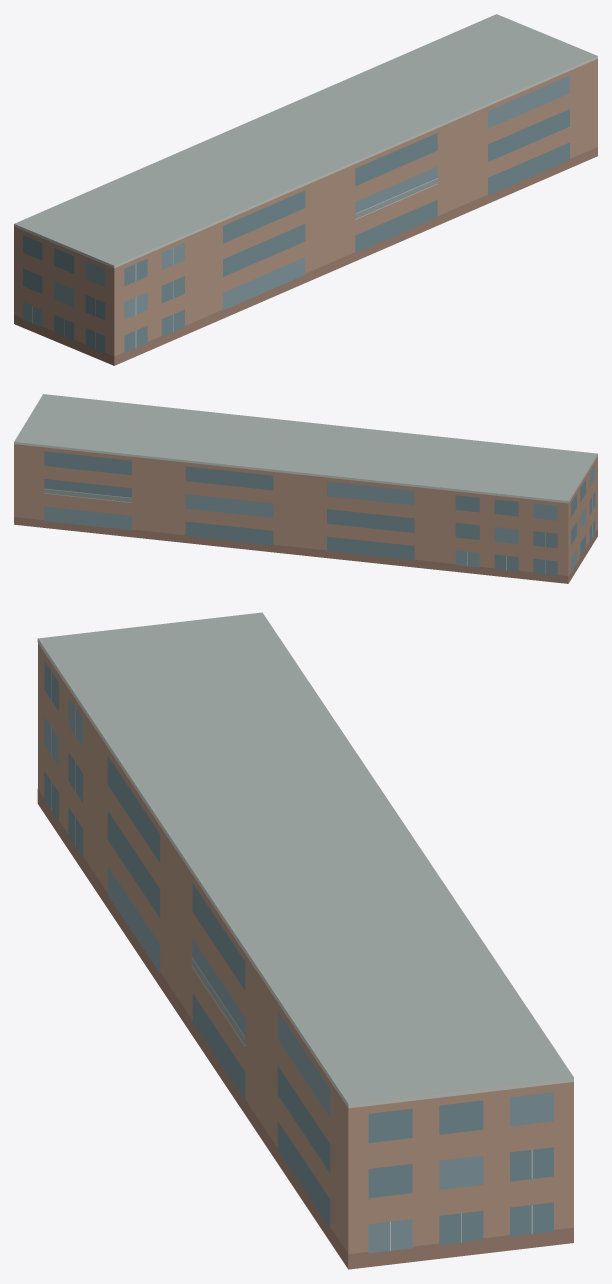
The model's file is survey-upis-32585670.glb.
3 views of the same model, one above another, from view 1: azimuth 30°, elevation 25°; view 2: azimuth 150°, elevation 25°; view 3: azimuth 270°, elevation 25° (orthographic). The views are drawn at different scales.
Visible parts, largest first — view 1: survey-upis-32585670.tmp; view 2: survey-upis-32585670.tmp; view 3: survey-upis-32585670.tmp.
Part boxes in pixels (box(x1,y1,x2,y2)): survey-upis-32585670.tmp: box(14, 14, 597, 365); survey-upis-32585670.tmp: box(14, 394, 597, 583); survey-upis-32585670.tmp: box(37, 612, 573, 1269).
Size of the model in its own units: 58.31 by 9.15 by 26.88.
